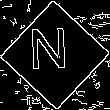N_S: (34, 29, 76, 81)
